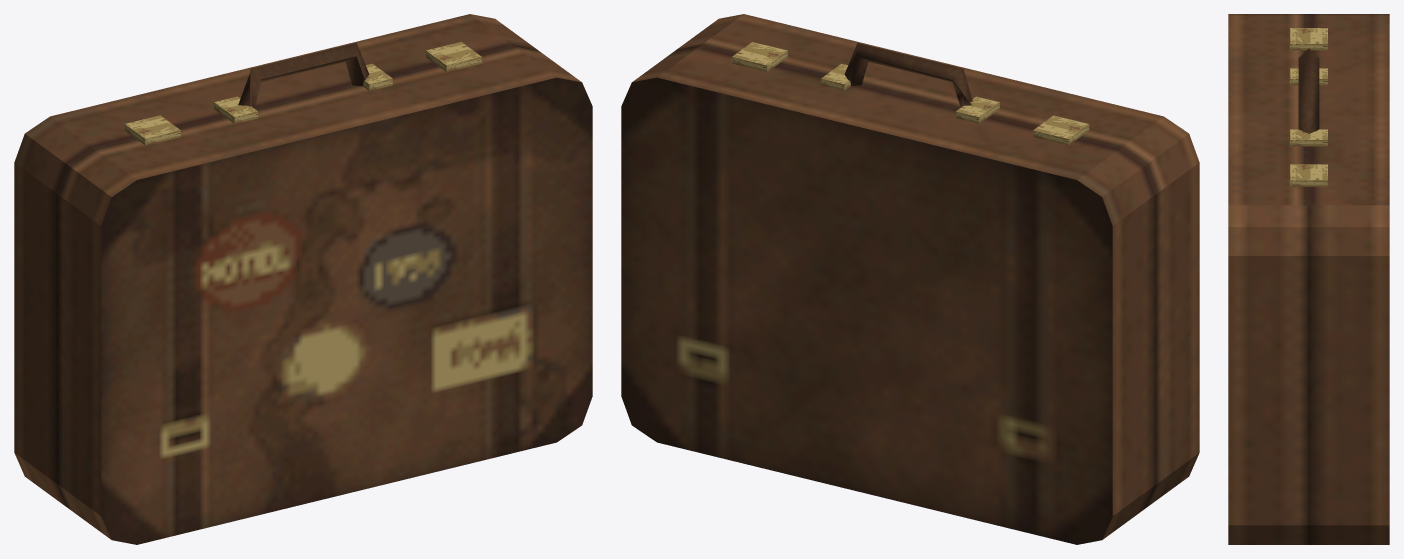
File: suitcase_old.obj
3 views of the same model, side by side, from view 1: azimuth 30°, elevation 25°; view 2: azimuth 150°, elevation 25°; view 3: azimuth 270°, elevation 25° (orthographic). The views are drawn at different scales.
Parts seen in each view (by area): view 1: suitcase_old; view 2: suitcase_old; view 3: suitcase_old.
Part boxes in pixels (x1=…): suitcase_old: x1=14, y1=14, x2=592, y2=544; suitcase_old: x1=621, y1=14, x2=1199, y2=544; suitcase_old: x1=1228, y1=14, x2=1389, y2=544.
Bounding box in the file's own units: 0.62 × 0.4898 × 0.19.
1 material, 1 textured.
